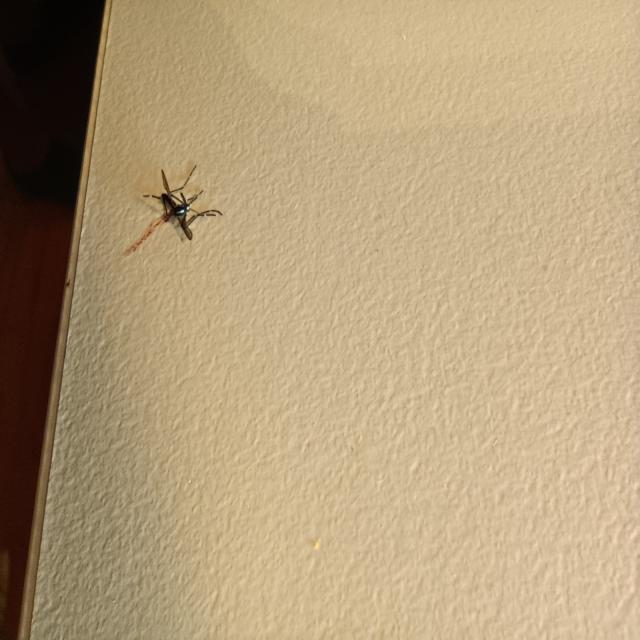albopictus: (134, 154, 226, 247)
